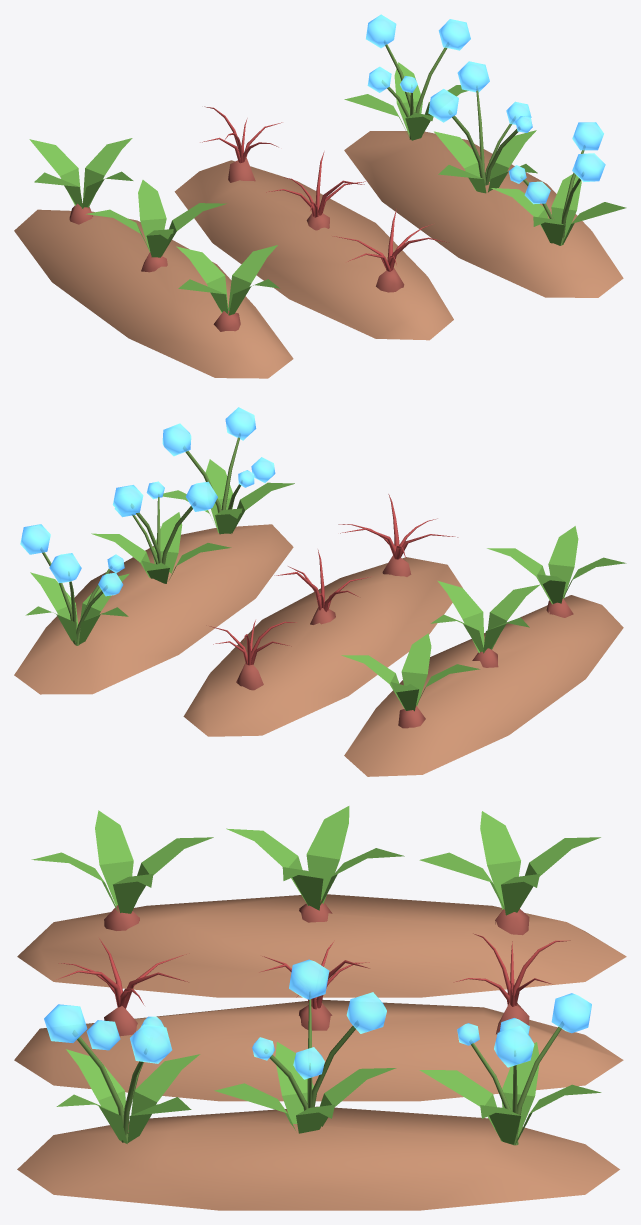
File: huerto.glb
The picture shows the model from 3 angles, top to bottom: view 1: azimuth 30°, elevation 25°; view 2: azimuth 150°, elevation 25°; view 3: azimuth 270°, elevation 25°; orthographic projection. The views are drawn at different scales.
Visible parts, largest first — view 1: GeoSphere023, GeoSphere022, GeoSphere024, Box005, Box004, Box012, Box002, Box009, Box023, Box018, Box020, GeoSphere010 (+14 smaller); view 2: GeoSphere023, GeoSphere022, GeoSphere024, Box001, Box010, Box008, Box006, Box017, Box015, Box022, GeoSphere010, GeoSphere016 (+10 smaller); view 3: GeoSphere024, GeoSphere022, GeoSphere023, Box007, Box003, Box011, Box021, Box019, Box024, Box016, GeoSphere018, GeoSphere020 (+29 smaller).
Boxes of the visible parts, x1,y1,x2,y2 form: GeoSphere023: [174, 160, 453, 340]; GeoSphere022: [14, 209, 293, 378]; GeoSphere024: [344, 131, 623, 297]; Box005: [138, 180, 166, 251]; Box004: [83, 138, 132, 207]; Box012: [228, 245, 277, 310]; Box002: [29, 139, 80, 205]; Box009: [176, 246, 228, 312]; Box023: [551, 174, 581, 238]; Box018: [434, 131, 480, 190]; Box020: [489, 130, 536, 181]; GeoSphere010: [438, 19, 470, 50]; GeoSphere023: [183, 557, 462, 736]; GeoSphere022: [344, 595, 623, 776]; GeoSphere024: [14, 524, 293, 694]; Box001: [401, 633, 431, 706]; Box010: [548, 526, 578, 598]; Box008: [437, 580, 484, 652]; Box006: [487, 584, 539, 649]; Box017: [153, 512, 182, 573]; Box015: [30, 572, 77, 628]; Box022: [205, 459, 232, 532]; GeoSphere010: [20, 524, 50, 554]; GeoSphere016: [112, 485, 143, 515]; GeoSphere024: [17, 1106, 619, 1210]; GeoSphere022: [17, 894, 626, 997]; GeoSphere023: [14, 999, 623, 1101]; Box007: [306, 806, 349, 903]; Box003: [480, 811, 520, 909]; Box011: [95, 810, 133, 906]; Box021: [131, 1054, 200, 1135]; Box019: [275, 1042, 313, 1123]; Box024: [66, 1049, 128, 1131]; Box016: [502, 1042, 539, 1137]; GeoSphere018: [130, 1024, 172, 1063]; GeoSphere020: [44, 1004, 87, 1042].
Bounding box in the file's own units: 86.03 × 24.63 × 75.59.
